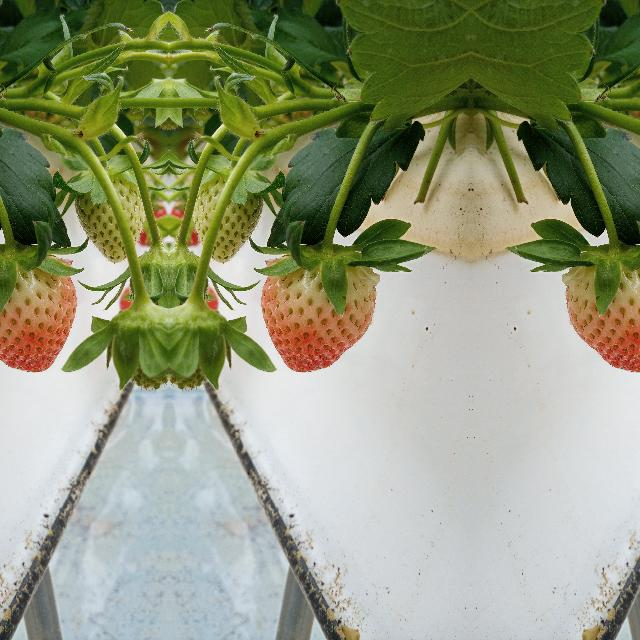Health_100: (260, 264, 376, 374), (0, 264, 76, 373), (565, 264, 640, 373)
Health_25: (185, 167, 263, 267), (73, 167, 151, 267)
